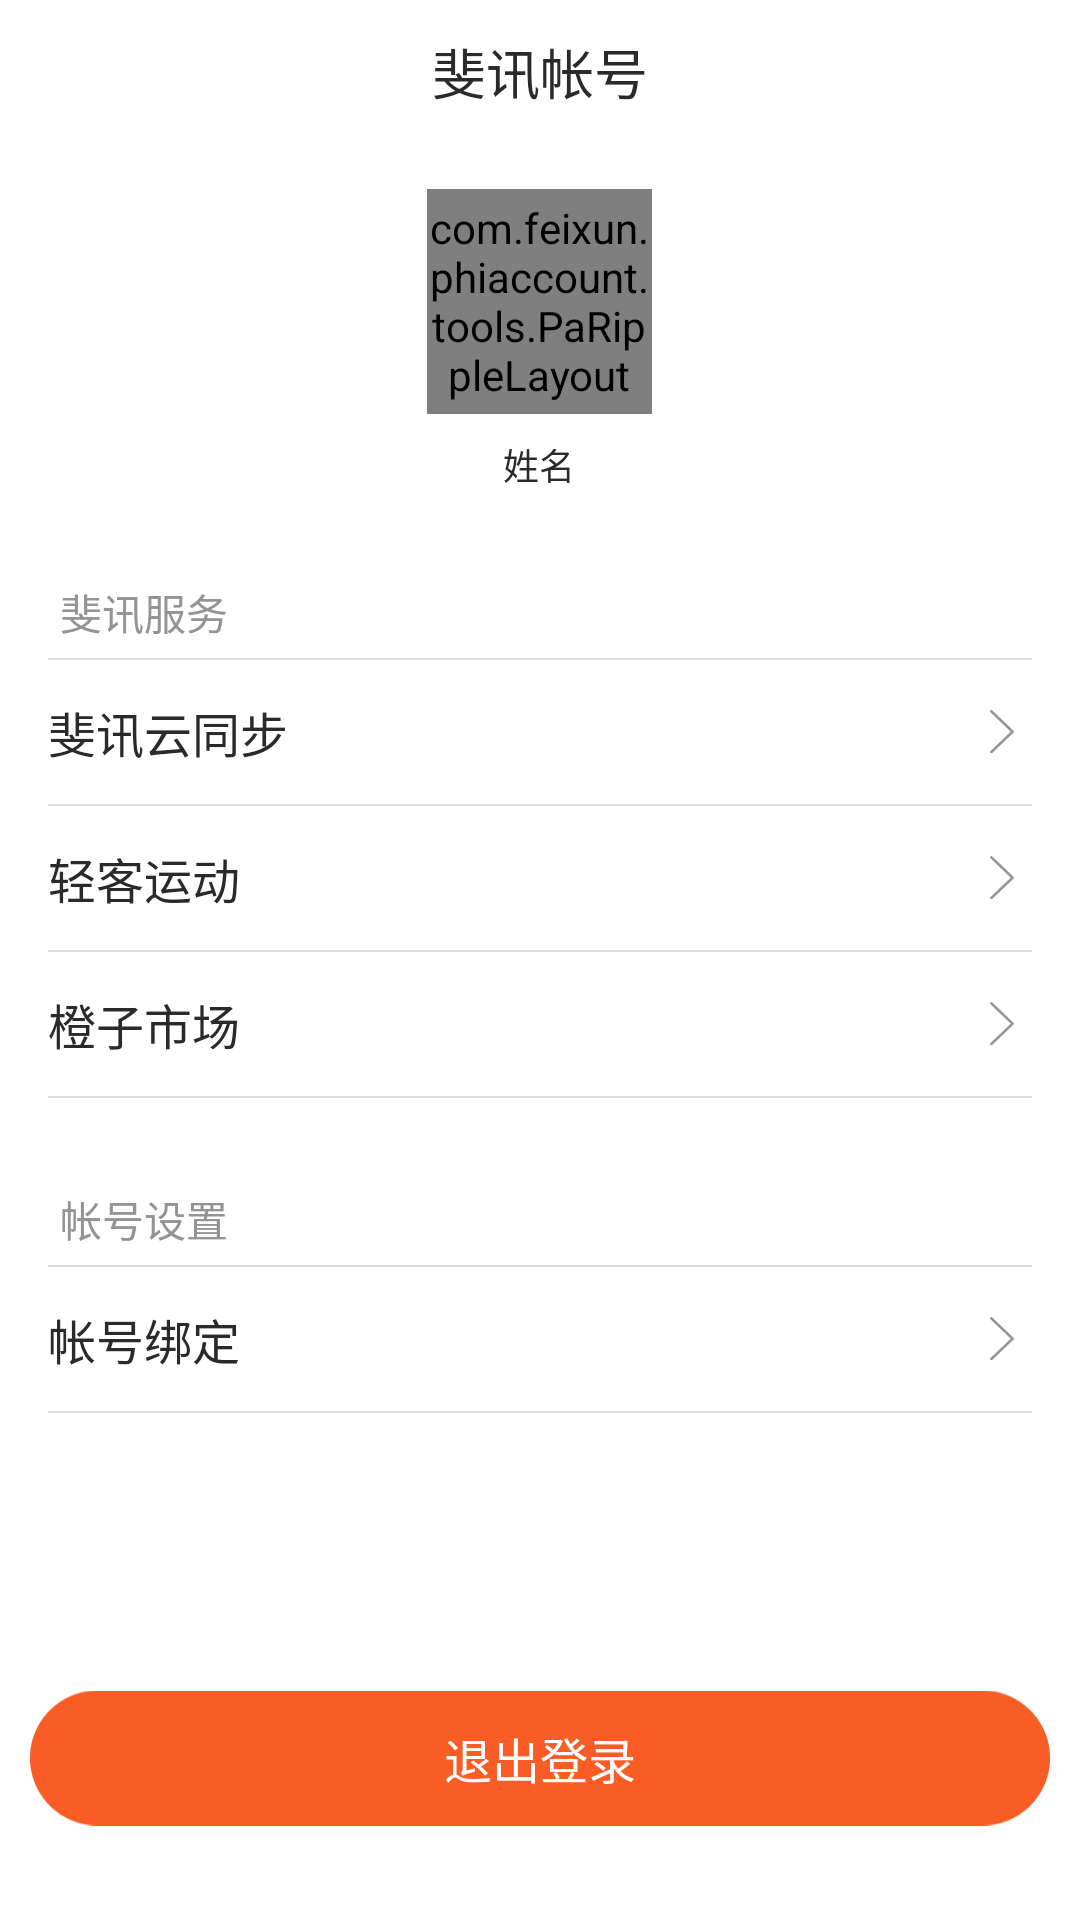

Point at icon controls on the screen. Image size 1080w x 1920h, points as (x,y).
paicon back to right: (1002,731), (1002,877), (1002,1023), (1002,1338)
